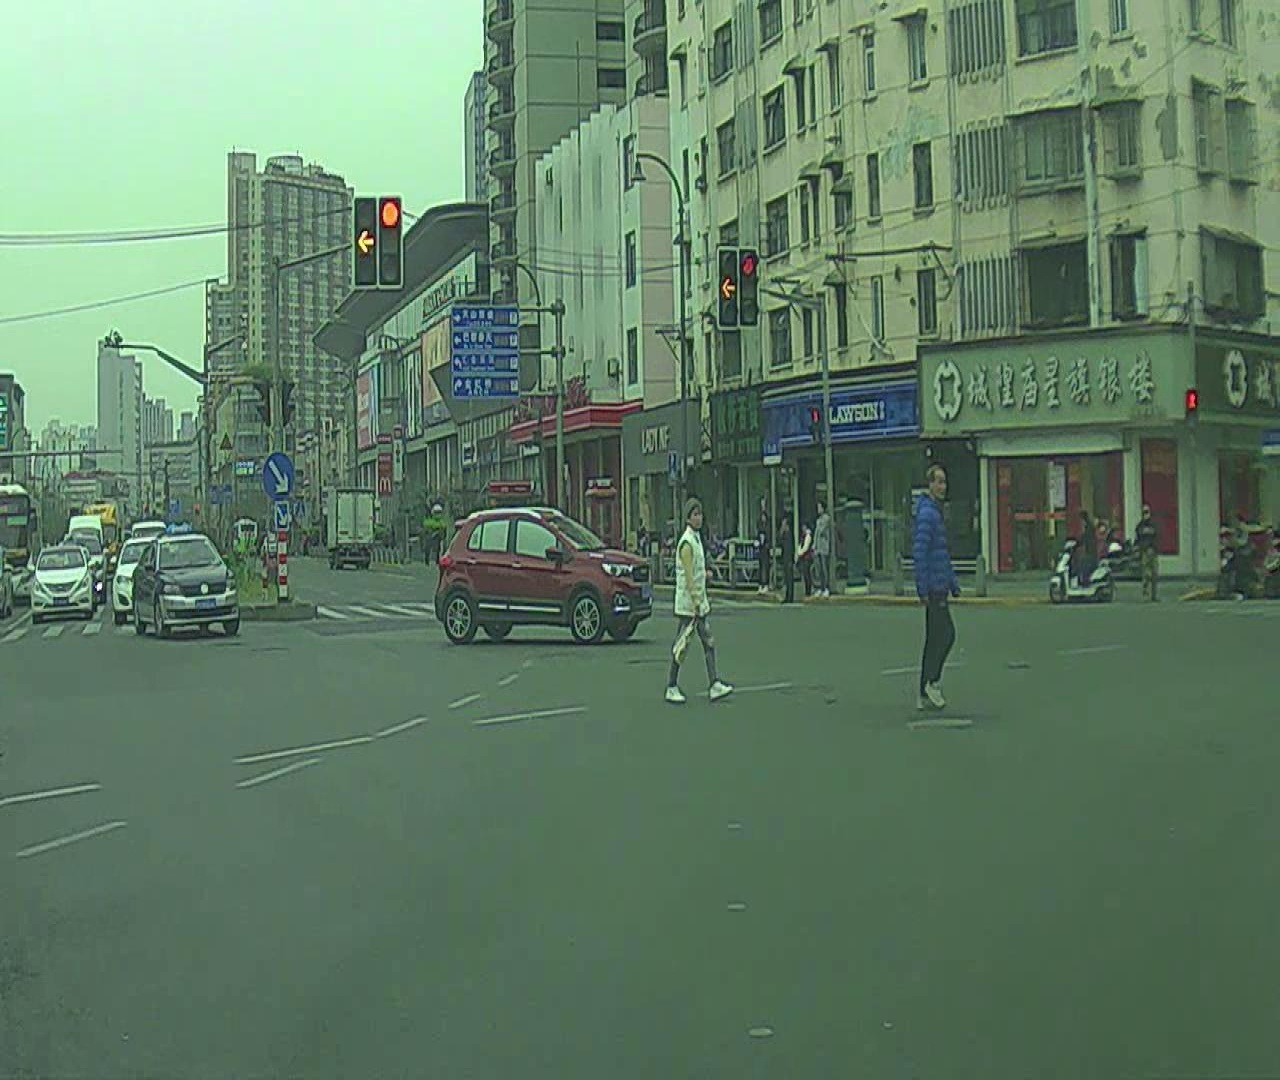red: (377, 190, 407, 294), (739, 244, 763, 321)
yellow: (353, 190, 381, 283), (720, 246, 742, 327)
